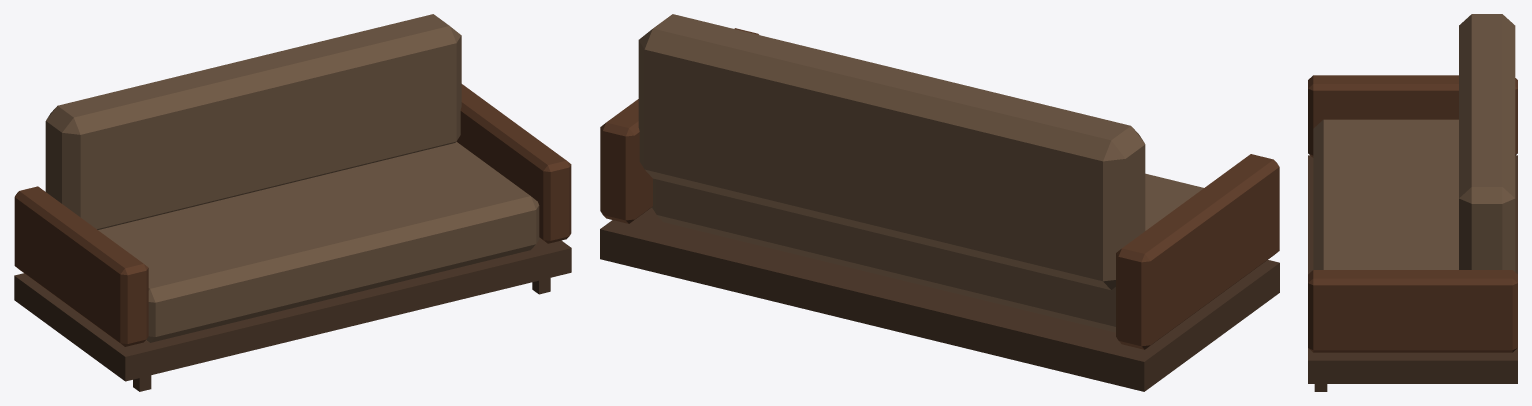
The model's file is sofa.glb.
3 renders of one model, left to right at view 1: azimuth 30°, elevation 25°; view 2: azimuth 150°, elevation 25°; view 3: azimuth 270°, elevation 25°, orthographic. The views are drawn at different scales.
Parts seen in each view (by area): view 1: Sofa; view 2: Sofa; view 3: Sofa.
Boxes of the visible parts, x1,y1,x2,y2 form: Sofa: (14, 14, 571, 391); Sofa: (600, 14, 1279, 391); Sofa: (1308, 14, 1517, 391).
Size of the model in its own units: 1.92 by 0.85 by 0.82.
